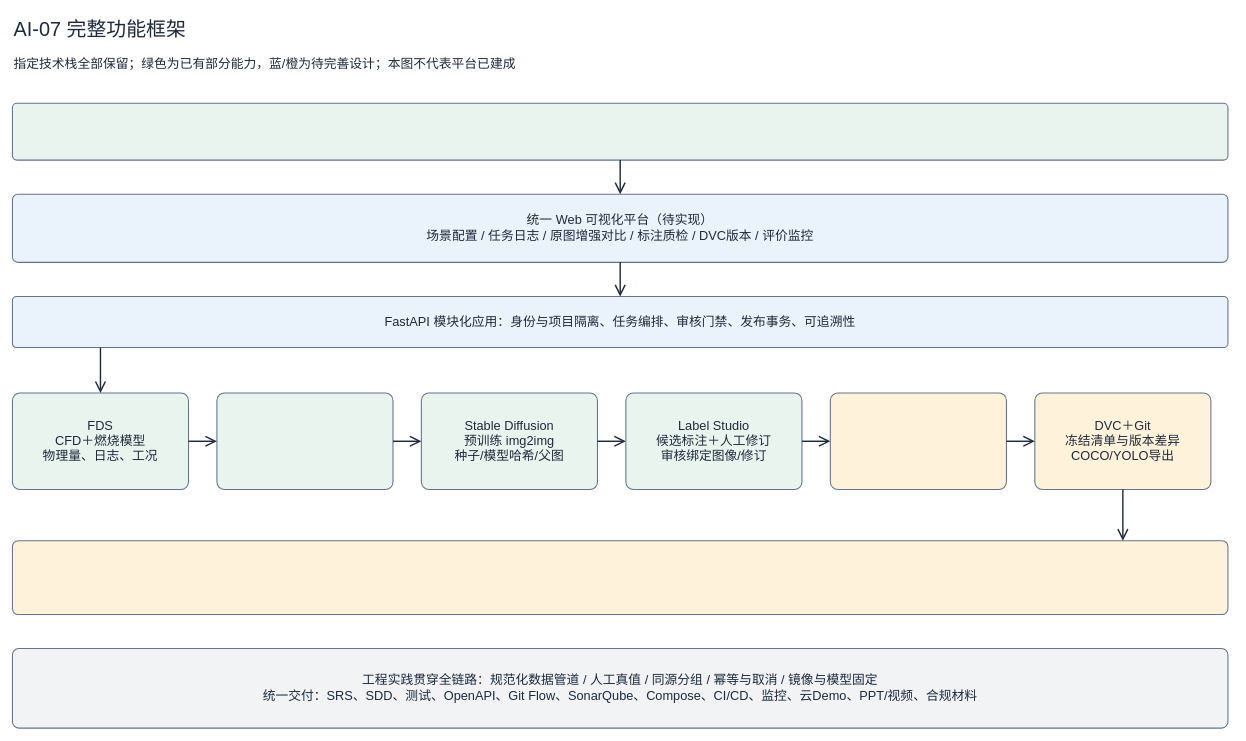
The diagram is 1246 pixels wide and 741 high, and some of its shapes have lost their labels. The box of each missing label's shape, as (x1, y1, x2, y2) in pixels:
Blender 多场景/视角/能见度 RGB＋候选掩膜: (216, 392, 393, 490)
价值：减少危险采集与重复标注 增加场景多样性；保留真实评价证据: (12, 102, 1228, 160)
质量筛选 完整性/重复/框合法性 视觉人工评价: (829, 392, 1007, 490)
验收证据：真实/合成 FID；相同预算下 YOLO 两组对照；物理量与独立参照误差 现有样例只证明部分链路可运行，不能证明 5%物理误差或15%检测提升: (12, 540, 1228, 615)
